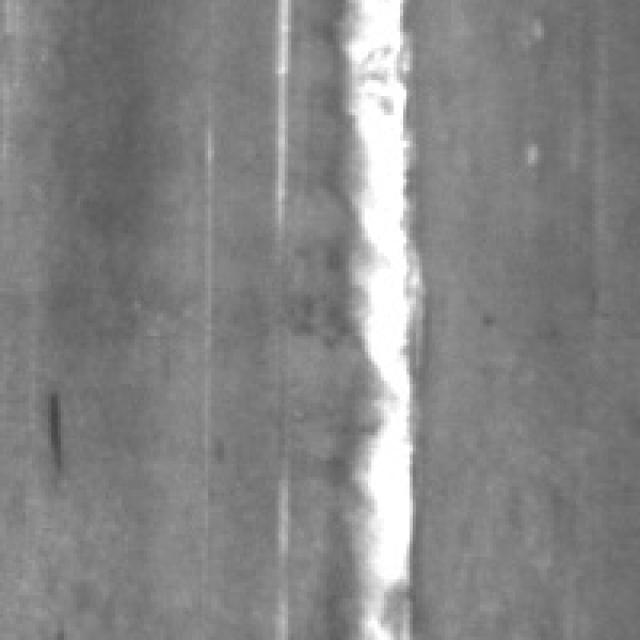inclusion: (32, 374, 67, 474)
scratches: (323, 0, 426, 634), (259, 0, 298, 237), (259, 445, 298, 637)
